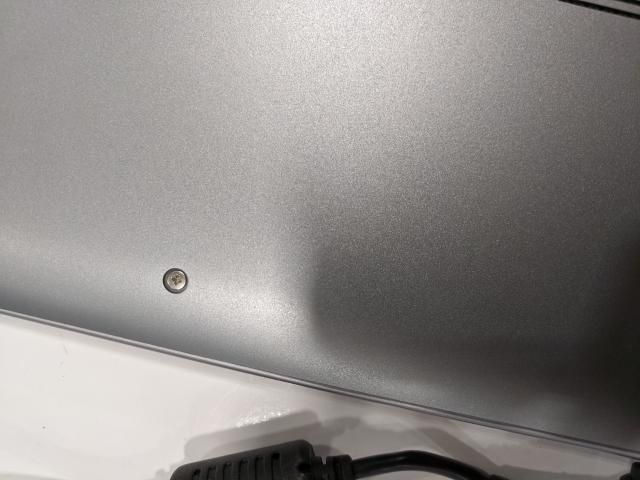CRS: (165, 268, 188, 292)
